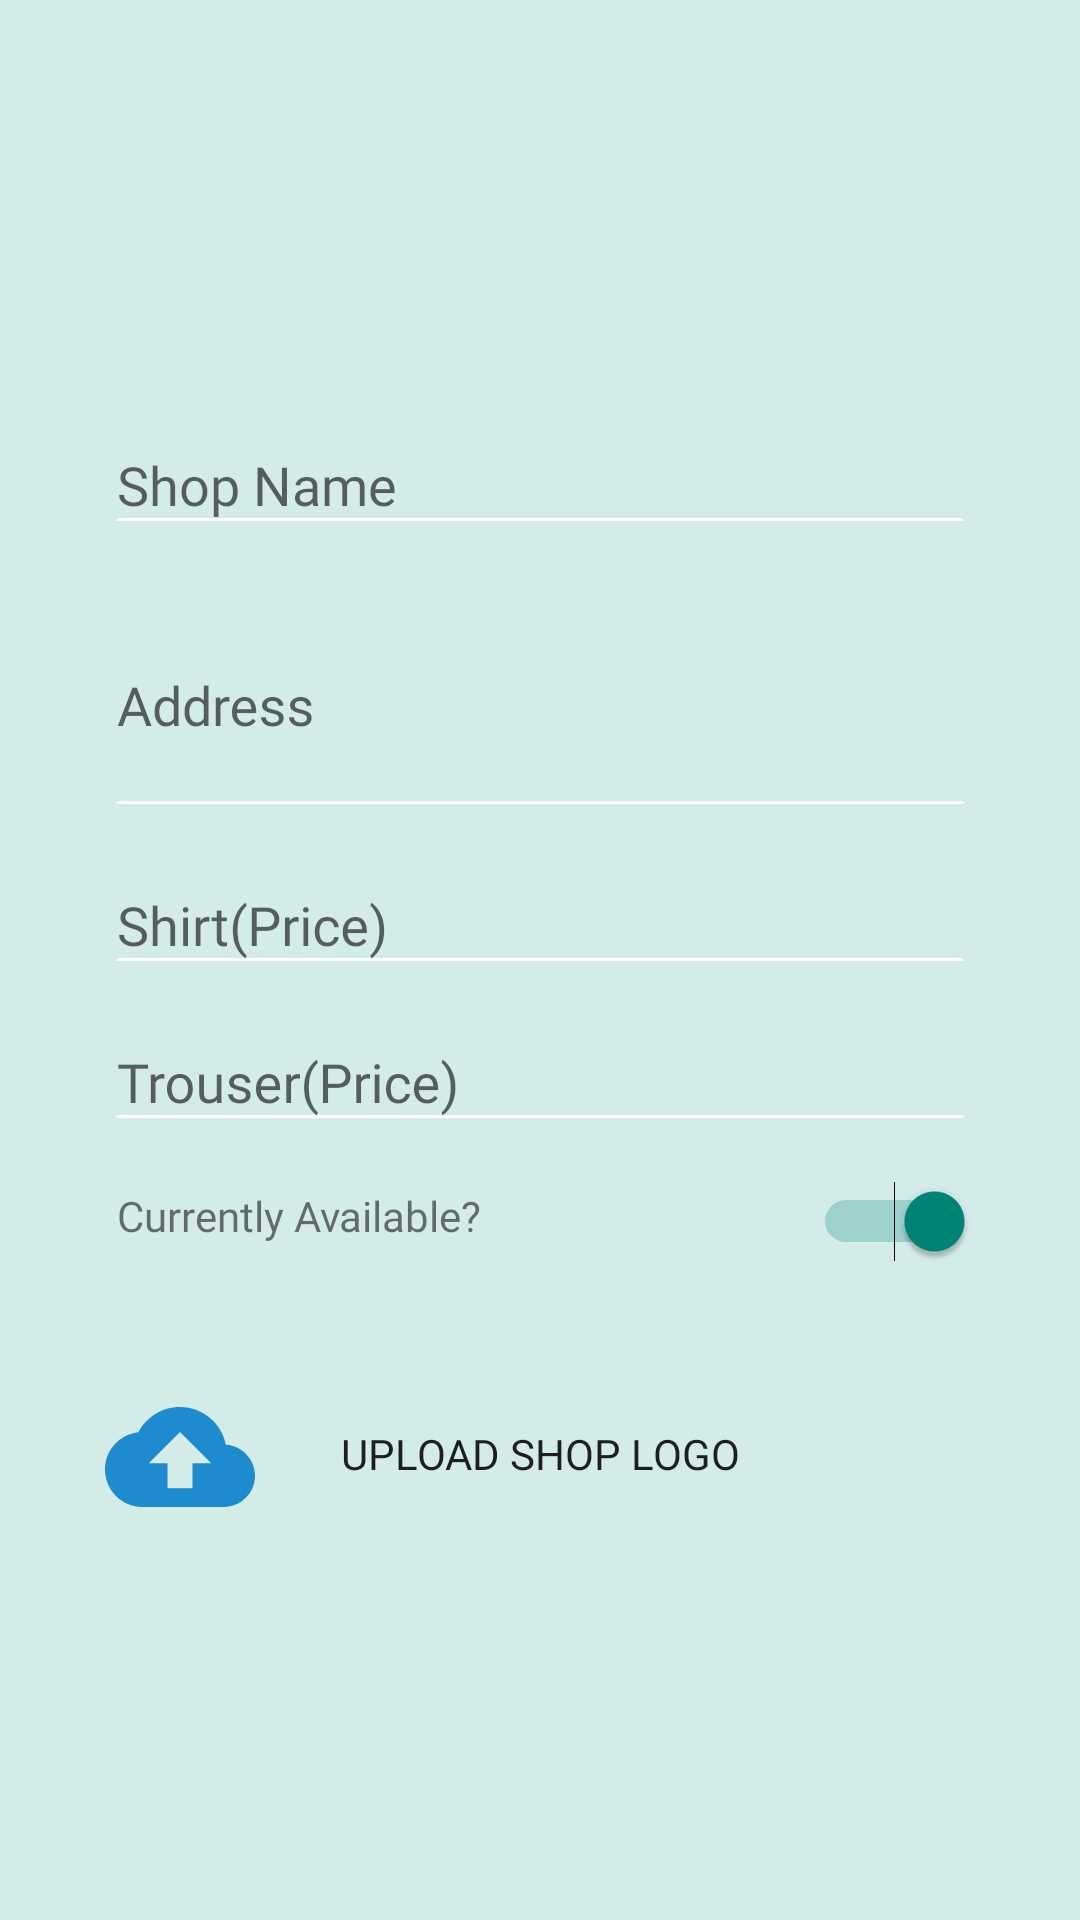

Where to tap for icons on this 1080w x 1920h app screen, as point (x, y):
cloud upload: point (180, 1457)
